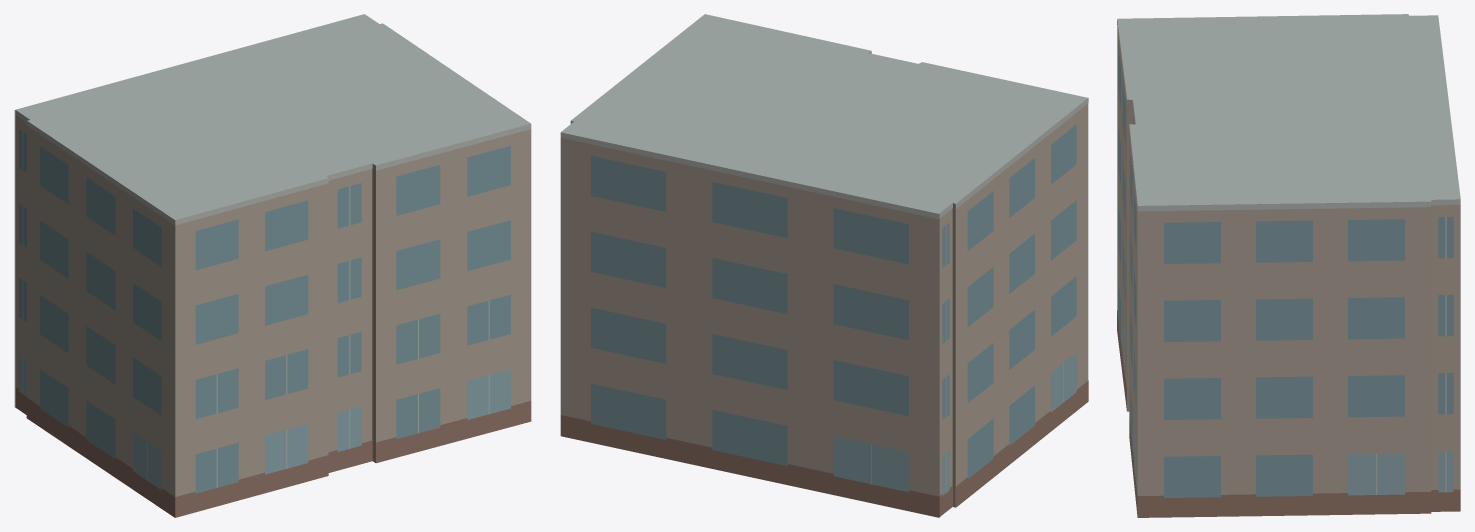
The model's file is survey-upis-32781173.glb.
3 renders of one model, left to right at view 1: azimuth 30°, elevation 25°; view 2: azimuth 150°, elevation 25°; view 3: azimuth 270°, elevation 25°, orthographic. The views are drawn at different scales.
Visible parts, largest first — view 1: survey-upis-32781173.tmp; view 2: survey-upis-32781173.tmp; view 3: survey-upis-32781173.tmp.
Boxes of the visible parts, left/top/right/bottom form: survey-upis-32781173.tmp: left=14, top=14, right=531, bottom=517; survey-upis-32781173.tmp: left=560, top=14, right=1088, bottom=517; survey-upis-32781173.tmp: left=1117, top=14, right=1460, bottom=517.
Size of the model in its own units: 18.21 by 13.8 by 13.79.
